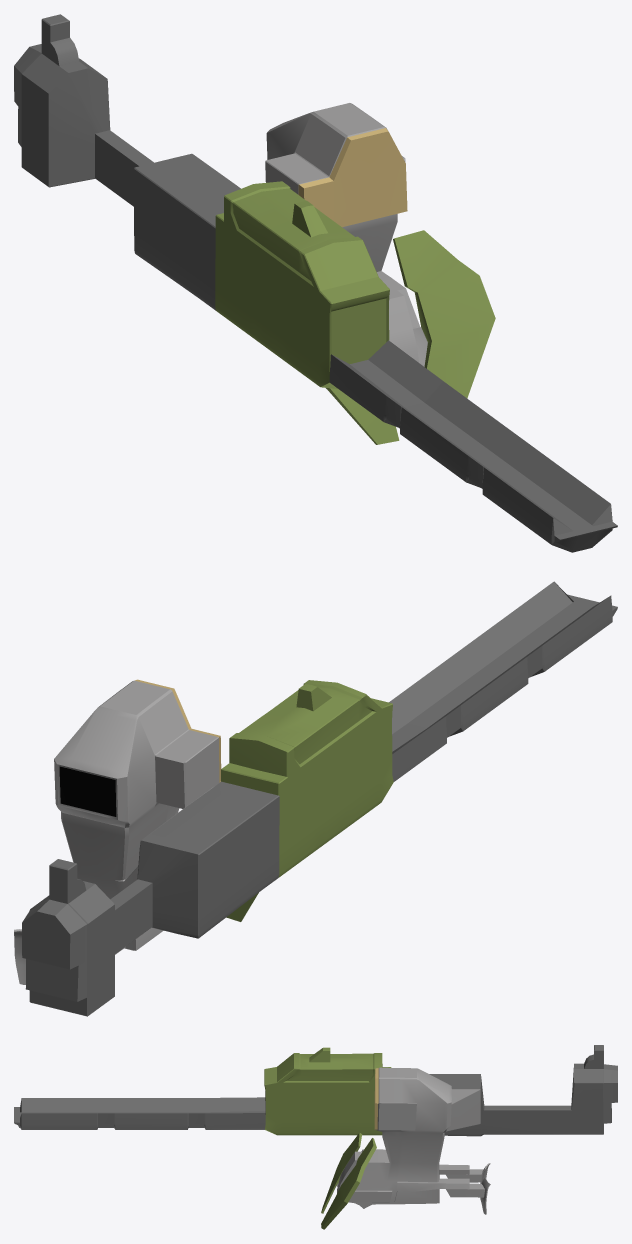
Rendered from frame.fbx.
3 renders of one model, top to bottom at view 1: azimuth 30°, elevation 25°; view 2: azimuth 150°, elevation 25°; view 3: azimuth 270°, elevation 25°, orthographic. The views are drawn at different scales.
Visible parts, largest first — view 1: muzzleFrame; view 2: muzzleFrame; view 3: muzzleFrame.
Boxes of the visible parts, left/top/right/bottom form: muzzleFrame: left=14, top=14, right=617, bottom=552; muzzleFrame: left=14, top=581, right=617, bottom=1016; muzzleFrame: left=14, top=1045, right=617, bottom=1229.
Size of the model in its own units: 59 by 63.43 by 237.
